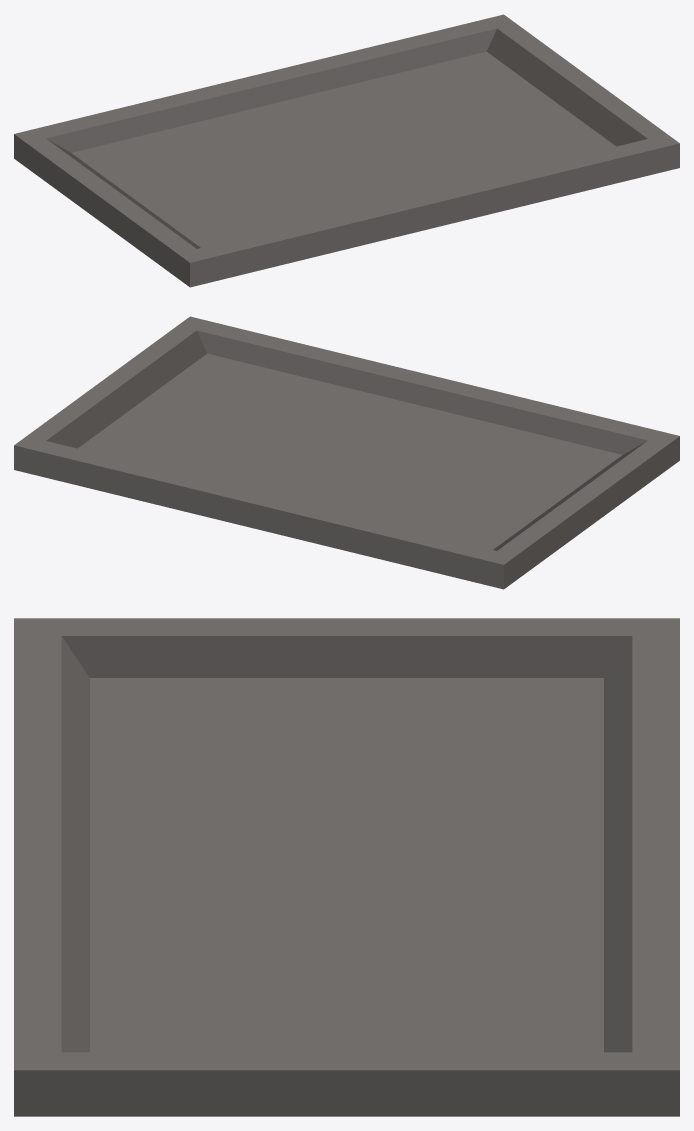
Rendered from FastFoodTray2.glb.
3 views of the same model, one above another, from view 1: azimuth 30°, elevation 25°; view 2: azimuth 150°, elevation 25°; view 3: azimuth 270°, elevation 25° (orthographic). The views are drawn at different scales.
Visible parts, largest first — view 1: SI_Prop_FastfoodTray_02; view 2: SI_Prop_FastfoodTray_02; view 3: SI_Prop_FastfoodTray_02.
Part boxes in pixels (x1=…): SI_Prop_FastfoodTray_02: x1=14, y1=14, x2=679, y2=287; SI_Prop_FastfoodTray_02: x1=14, y1=316, x2=679, y2=589; SI_Prop_FastfoodTray_02: x1=14, y1=618, x2=679, y2=1116.
Bounding box in the file's own units: 0.012 × 0.000576 × 0.00748.
Materials: 1 (1 with a texture image).
